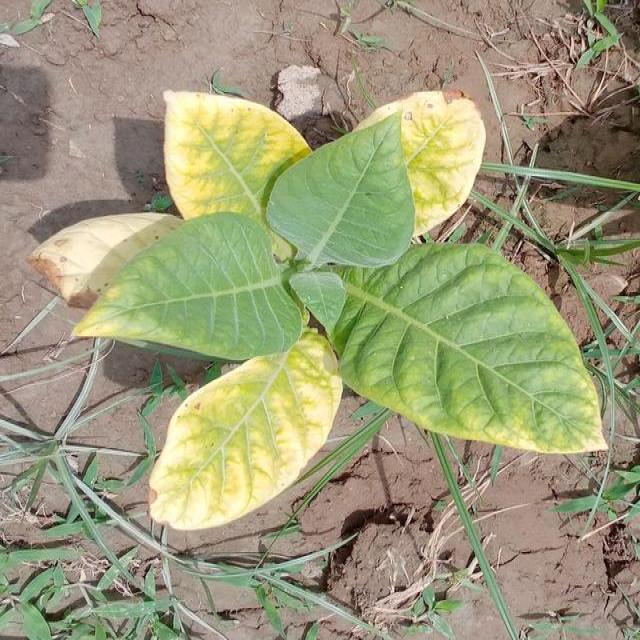crop: (54, 90, 582, 518)
